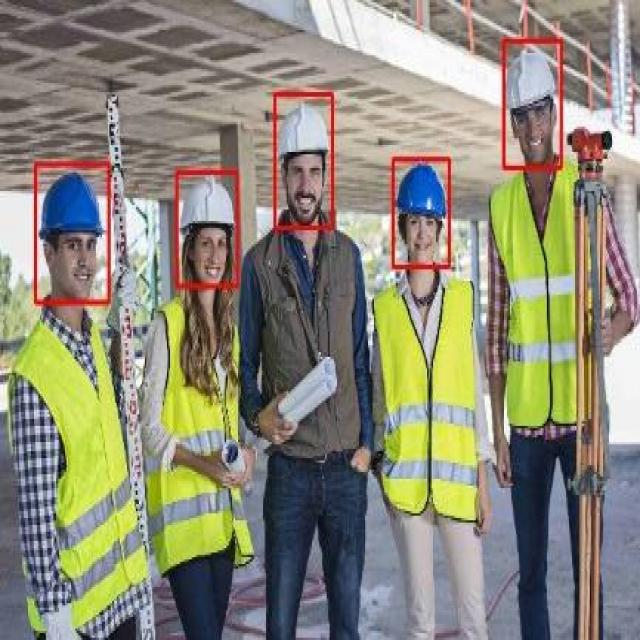Reflective-Jacket: (0, 313, 148, 640), (145, 300, 253, 574), (371, 274, 486, 523), (488, 161, 590, 435)
Safety-Helmet: (35, 163, 105, 242), (503, 39, 557, 113), (178, 170, 236, 237), (275, 99, 331, 161), (393, 161, 448, 221)
